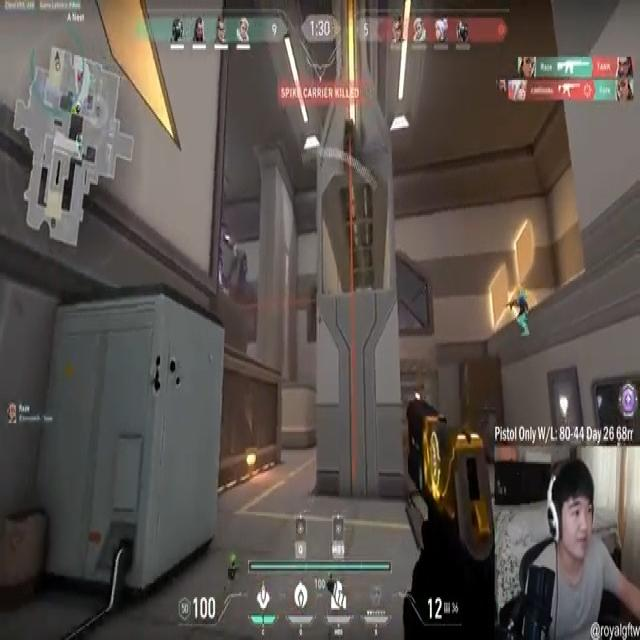ally: (508, 282, 533, 342)
